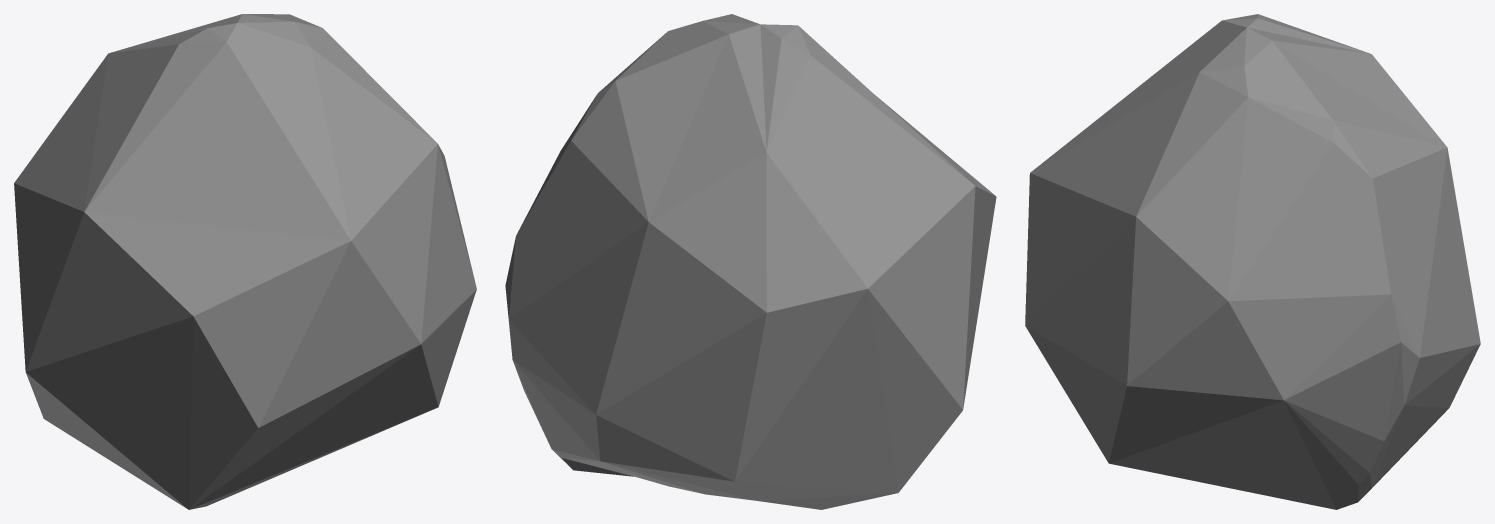
The model's file is Boulder 1.fbx.
3 renders of one model, left to right at view 1: azimuth 30°, elevation 25°; view 2: azimuth 150°, elevation 25°; view 3: azimuth 270°, elevation 25°, orthographic. The views are drawn at different scales.
Visible parts, largest first — view 1: Boulder_1; view 2: Boulder_1; view 3: Boulder_1.
Part boxes in pixels (x1=…): Boulder_1: x1=14, y1=14, x2=476, y2=509; Boulder_1: x1=505, y1=14, x2=996, y2=509; Boulder_1: x1=1025, y1=14, x2=1480, y2=509.
Bounding box in the file's own units: 251 × 253 × 240.
Materials: 1 (1 with a texture image).
